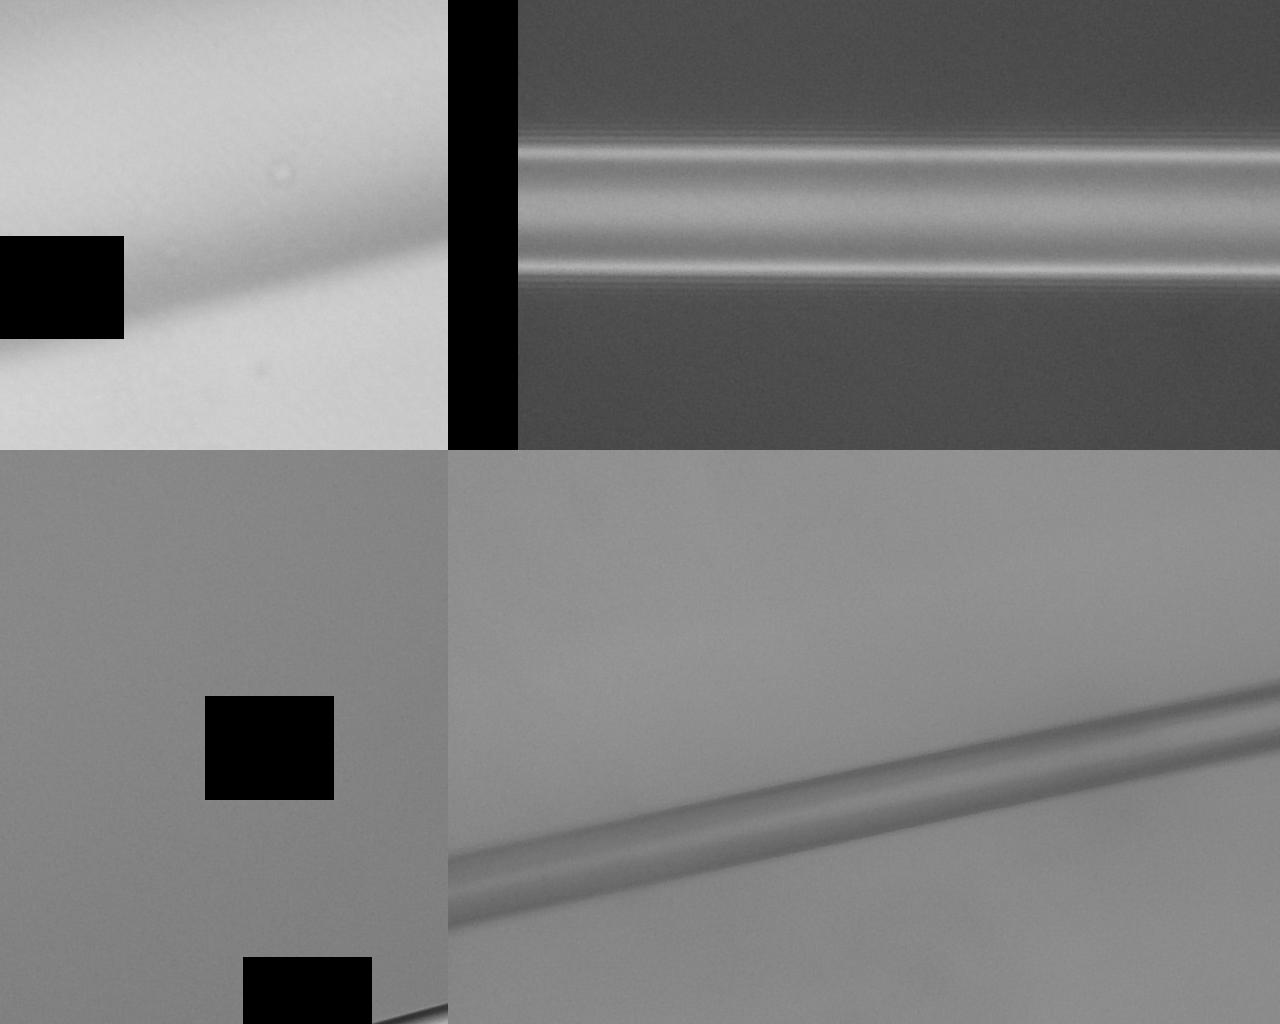fiber: (793, 650, 1280, 893), (121, 624, 295, 1024), (793, 114, 1280, 225)
